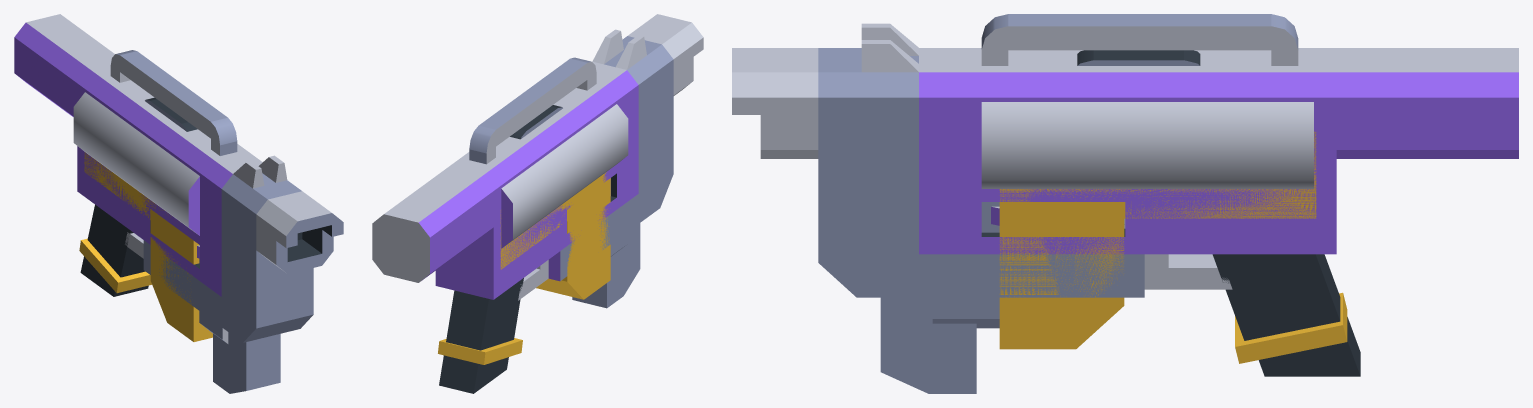
Rendered from blasterK.gltf.
3 views of the same model, side by side, from view 1: azimuth 30°, elevation 25°; view 2: azimuth 150°, elevation 25°; view 3: azimuth 270°, elevation 25° (orthographic). The views are drawn at different scales.
Parts seen in each view (by area): view 1: blasterA, blasterK; view 2: blasterA, blasterK; view 3: blasterA, blasterK.
Boxes of the visible parts, x1,y1,x2,y2 form: blasterA: (14, 14, 343, 393); blasterK: (79, 97, 228, 343); blasterA: (372, 14, 703, 393); blasterK: (438, 105, 628, 364); blasterA: (732, 14, 1518, 393); blasterK: (932, 50, 1347, 363).
Size of the model in its own units: 0.14 by 0.4159 by 0.82.
